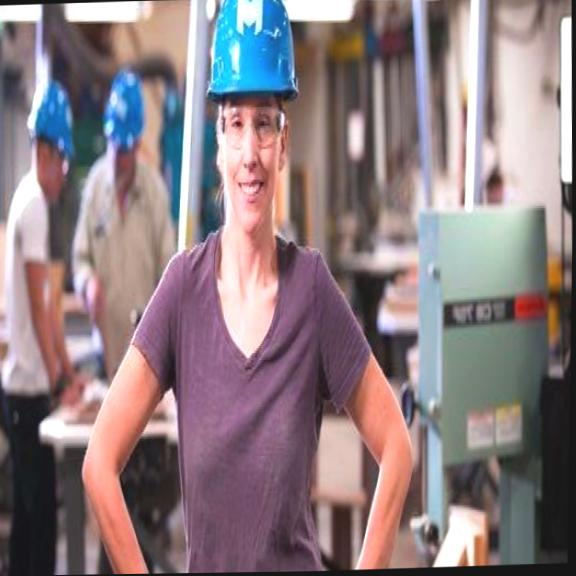no_safety_vest: (122, 217, 376, 574), (68, 149, 173, 389), (0, 166, 69, 398)
